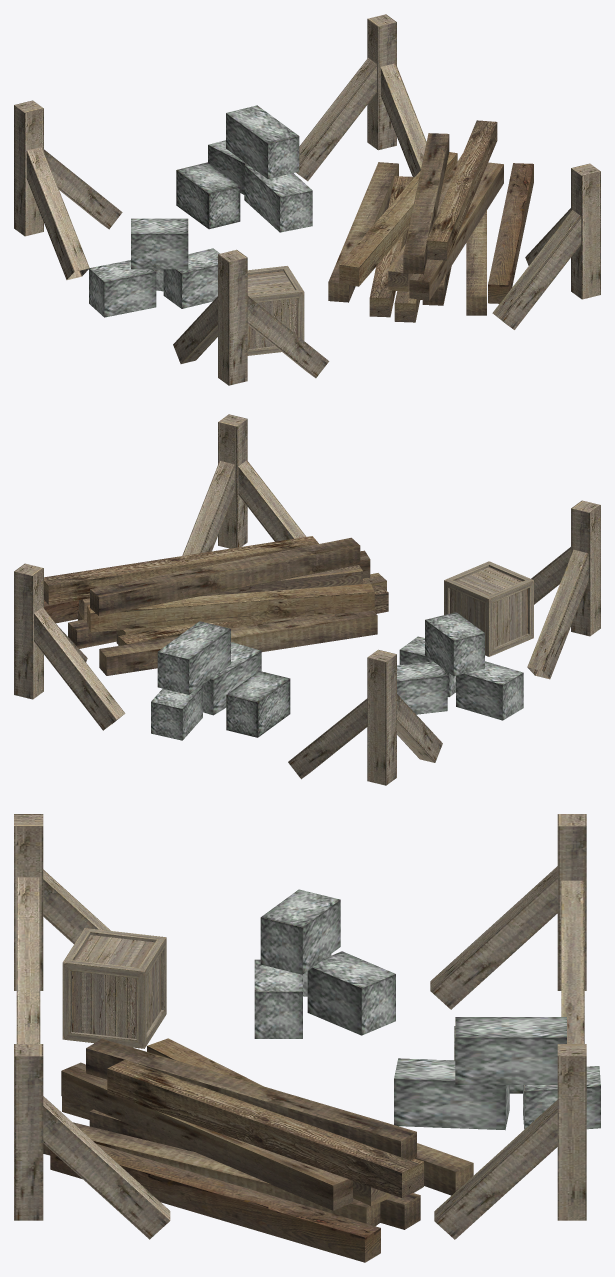
File: fndn_2x2.glb
The picture shows the model from 3 angles, top to bottom: view 1: azimuth 30°, elevation 25°; view 2: azimuth 150°, elevation 25°; view 3: azimuth 270°, elevation 25°; orthographic projection. The views are drawn at different scales.
Parts seen in each view (by area): view 1: fndn_2x2_part6, fndn_2x2_part2, fndn_2x2_part9, fndn_2x2_part3, fndn_2x2_part8, fndn_2x2_part4, fndn_2x2_part1, fndn_2x2_part5, fndn_2x2_part7; view 2: fndn_2x2_part6, fndn_2x2_part9, fndn_2x2_part8, fndn_2x2_part3, fndn_2x2_part1, fndn_2x2_part2, fndn_2x2_part4, fndn_2x2_part5, fndn_2x2_part7; view 3: fndn_2x2_part6, fndn_2x2_part8, fndn_2x2_part9, fndn_2x2_part3, fndn_2x2_part5, fndn_2x2_part1, fndn_2x2_part2, fndn_2x2_part4.
Boxes of the visible parts, box(x1,y1,x2,y2) form: fndn_2x2_part6: box(328, 120, 533, 322); fndn_2x2_part2: box(296, 14, 426, 181); fndn_2x2_part9: box(89, 218, 219, 317); fndn_2x2_part3: box(14, 100, 122, 279); fndn_2x2_part8: box(208, 105, 312, 232); fndn_2x2_part4: box(173, 249, 329, 385); fndn_2x2_part1: box(492, 163, 600, 329); fndn_2x2_part5: box(247, 266, 304, 355); fndn_2x2_part7: box(176, 162, 240, 229); fndn_2x2_part6: box(44, 536, 388, 675); fndn_2x2_part9: box(397, 612, 523, 720); fndn_2x2_part8: box(151, 621, 261, 740); fndn_2x2_part3: box(288, 649, 442, 785); fndn_2x2_part1: box(182, 414, 306, 555); fndn_2x2_part2: box(14, 563, 125, 730); fndn_2x2_part4: box(527, 500, 600, 679); fndn_2x2_part5: box(444, 561, 533, 656); fndn_2x2_part7: box(226, 671, 290, 737); fndn_2x2_part6: box(43, 1038, 473, 1262); fndn_2x2_part8: box(394, 1017, 600, 1130); fndn_2x2_part9: box(254, 889, 395, 1038); fndn_2x2_part3: box(430, 814, 586, 1043); fndn_2x2_part5: box(62, 928, 166, 1048); fndn_2x2_part1: box(14, 1044, 170, 1239); fndn_2x2_part2: box(434, 1044, 586, 1239); fndn_2x2_part4: box(14, 814, 110, 1043).
Bounding box in the file's own units: 2.19 × 0.971 × 1.81.
3 materials, 3 textured.
